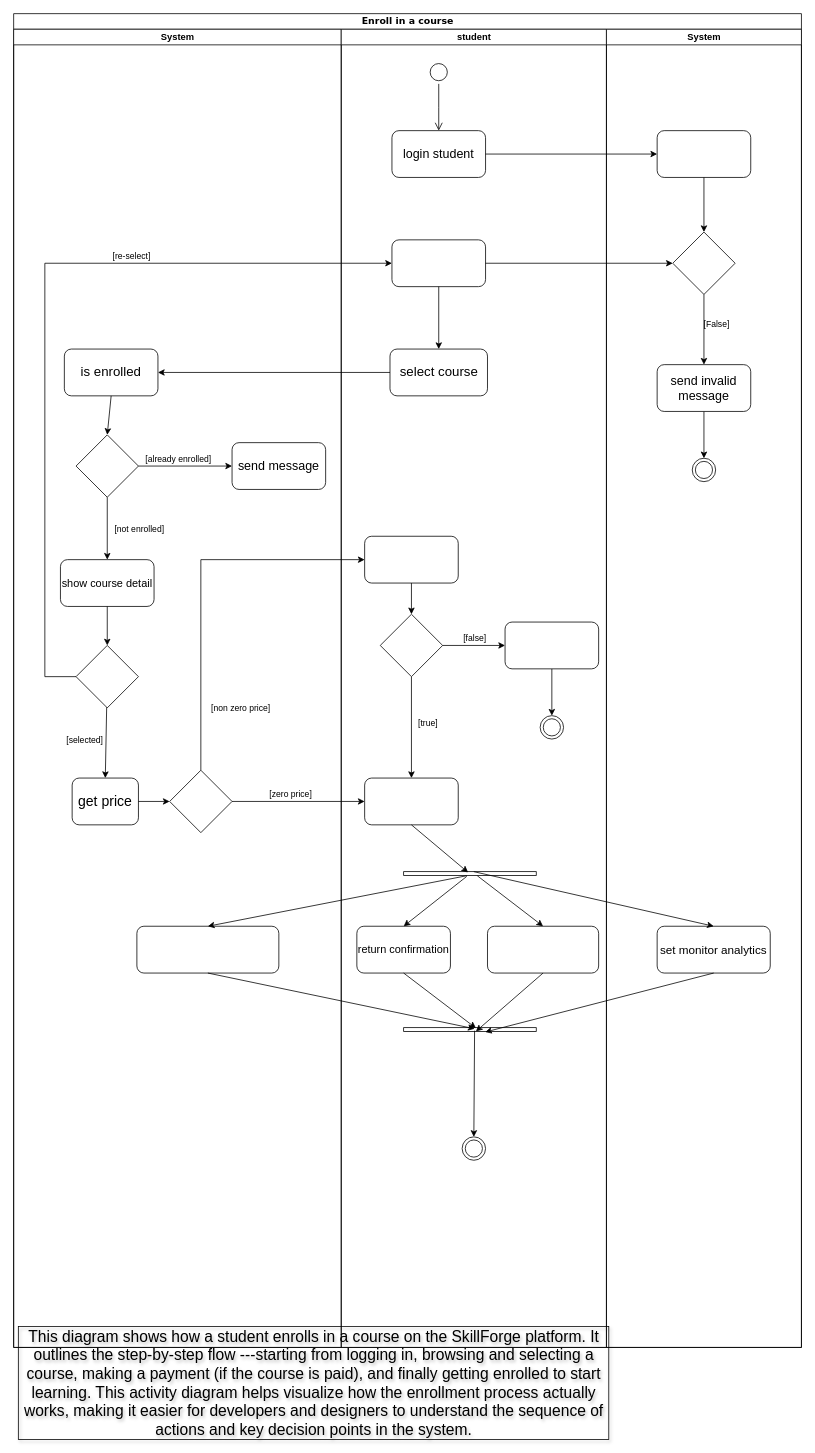
Some shapes in this 815 by 1453 pixel diagram are drawn without their labels. The shapes that lost their labels are listed below. From the top down, each one's centre as x and y in pixels, then its label:
point (703, 153): check valid login
point (438, 263): browse available courses
point (411, 559): course payment
point (551, 645): send failed message
point (411, 801): enroll in course
point (207, 949): set course student list
point (543, 949): set enrolled courses
